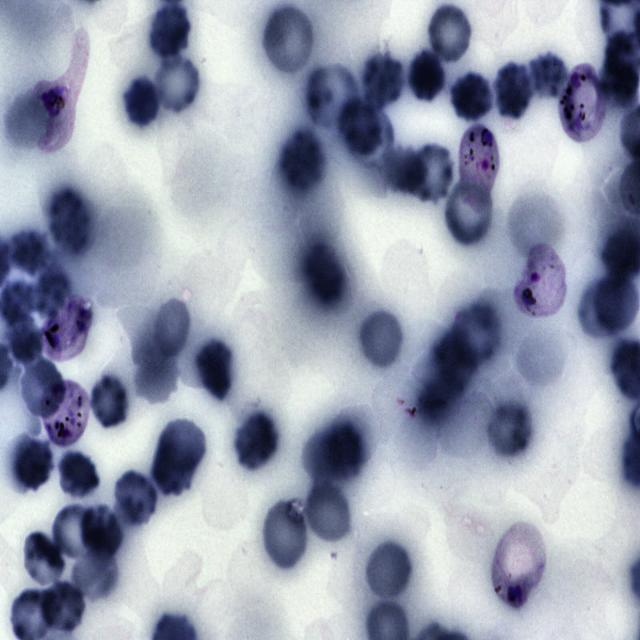red blood cell: (260, 499, 311, 572), (442, 177, 494, 248), (263, 5, 315, 76), (307, 63, 360, 128), (448, 304, 502, 366), (19, 356, 67, 422), (363, 540, 413, 603), (304, 482, 353, 546), (407, 141, 456, 205), (486, 398, 534, 462), (357, 306, 404, 371), (233, 408, 280, 473), (577, 278, 624, 340), (192, 333, 235, 399), (154, 52, 200, 113), (68, 549, 120, 600), (150, 445, 203, 495), (12, 431, 54, 494), (113, 469, 158, 527), (280, 129, 324, 188), (52, 506, 100, 560), (51, 188, 90, 254), (595, 274, 640, 330), (493, 60, 534, 121), (157, 418, 207, 468), (362, 52, 405, 110), (340, 97, 383, 155), (20, 532, 66, 586), (428, 2, 470, 61), (449, 70, 494, 124), (382, 144, 429, 194), (150, 2, 191, 59), (322, 423, 365, 477), (152, 297, 191, 356), (40, 580, 84, 632), (82, 503, 122, 557), (31, 266, 70, 320), (306, 248, 342, 304), (91, 374, 127, 428), (122, 80, 162, 128), (530, 52, 570, 100), (60, 450, 99, 497), (8, 316, 44, 366), (409, 53, 444, 103), (10, 232, 50, 274)
trophozoite: (34, 36, 89, 152), (492, 520, 545, 608), (559, 66, 609, 145), (514, 243, 567, 316), (40, 292, 92, 363), (460, 122, 500, 210), (42, 378, 89, 451)
